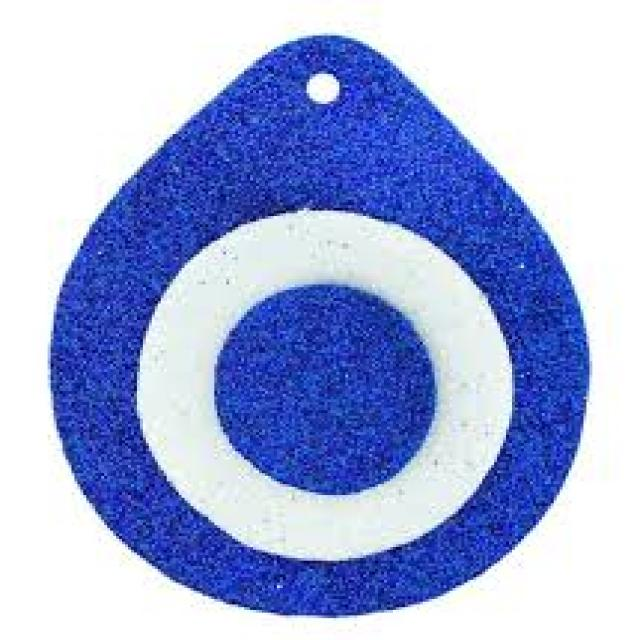Nazar-Boncugu: (54, 36, 589, 621)
